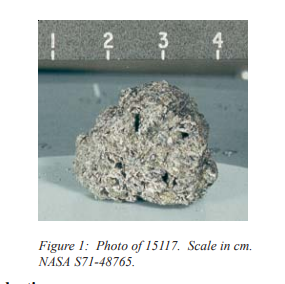Basalt: (69, 80, 222, 211)
